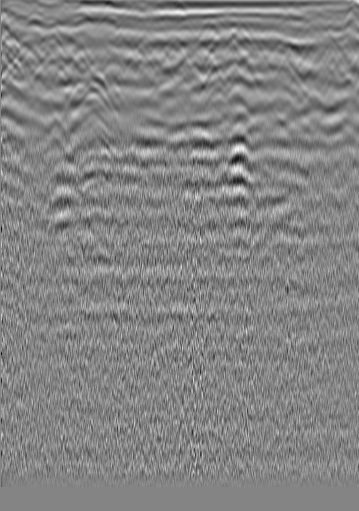가스: (37, 183, 83, 220)
상수: (322, 29, 342, 49)
오수: (15, 38, 35, 58)
우수: (177, 51, 197, 71)
